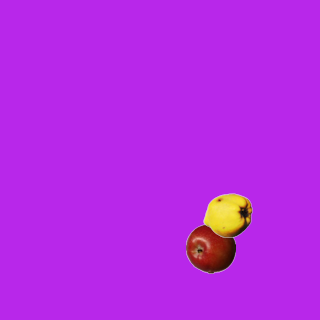Apple Braeburn: (185, 223, 235, 273)
Quince: (202, 190, 252, 240)
